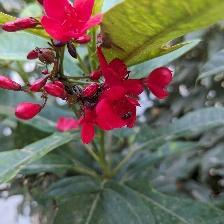jatropha: (89, 85, 144, 137)
